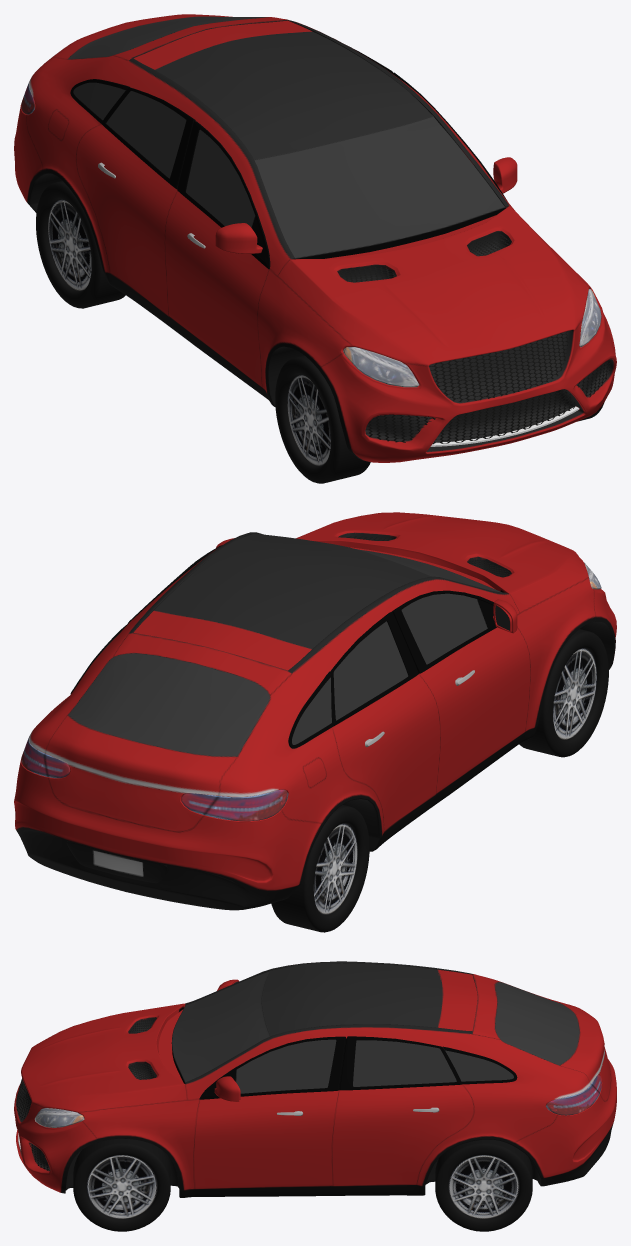
File: phase4_car.glb
3 renders of one model, top to bottom at view 1: azimuth 30°, elevation 25°; view 2: azimuth 150°, elevation 25°; view 3: azimuth 270°, elevation 25°, orthographic. The views are drawn at different scales.
Visible parts, largest first — view 1: Object_2, Object_7, Object_4, Object_6, Object_5, Object_3; view 2: Object_2, Object_7, Object_4, Object_6, Object_3, Object_5; view 3: Object_2, Object_7, Object_4, Object_6, Object_5, Object_3.
Boxes of the visible parts, <box> form: Object_2: <box>14,14,616,462</box>; Object_7: <box>70,20,575,443</box>; Object_4: <box>47,45,579,446</box>; Object_6: <box>36,181,610,483</box>; Object_5: <box>73,82,601,401</box>; Object_3: <box>21,83,609,466</box>; Object_2: <box>14,512,616,910</box>; Object_7: <box>133,533,510,748</box>; Object_4: <box>70,536,517,914</box>; Object_6: <box>271,537,608,932</box>; Object_3: <box>21,560,596,821</box>; Object_5: <box>90,536,601,747</box>; Object_2: <box>14,961,616,1197</box>; Object_7: <box>129,963,477,1083</box>; Object_4: <box>18,979,519,1218</box>; Object_6: <box>29,1138,532,1231</box>; Object_5: <box>16,1019,513,1127</box>; Object_3: <box>16,1020,601,1170</box>.
Bounding box in the file's own units: 75.46 × 61.95 × 175.
Materials: 1 (1 with a texture image).
